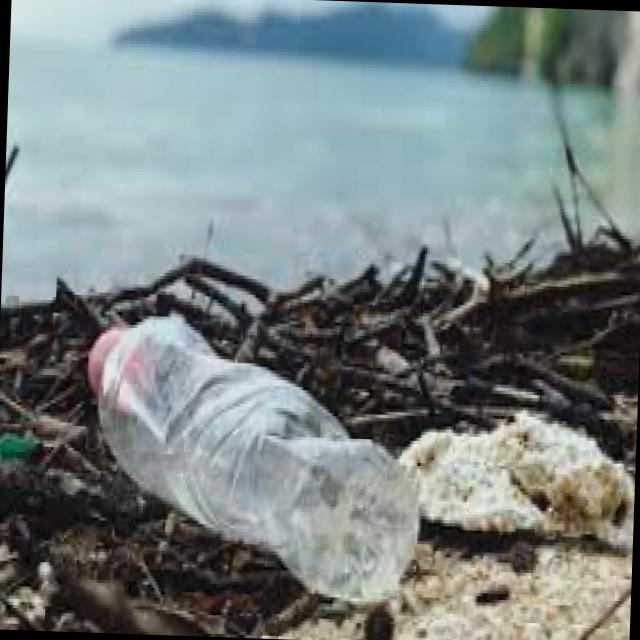Recycle: (72, 316, 436, 616)
